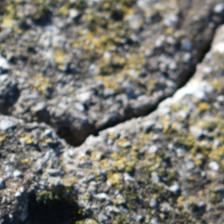Crack: (68, 47, 193, 108), (72, 3, 147, 79)
